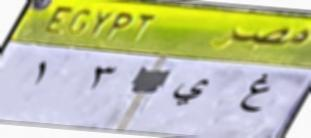1: (31, 55, 55, 92)
3: (80, 62, 121, 95)
ghayn: (240, 67, 275, 124)
yaa: (165, 79, 213, 107)
